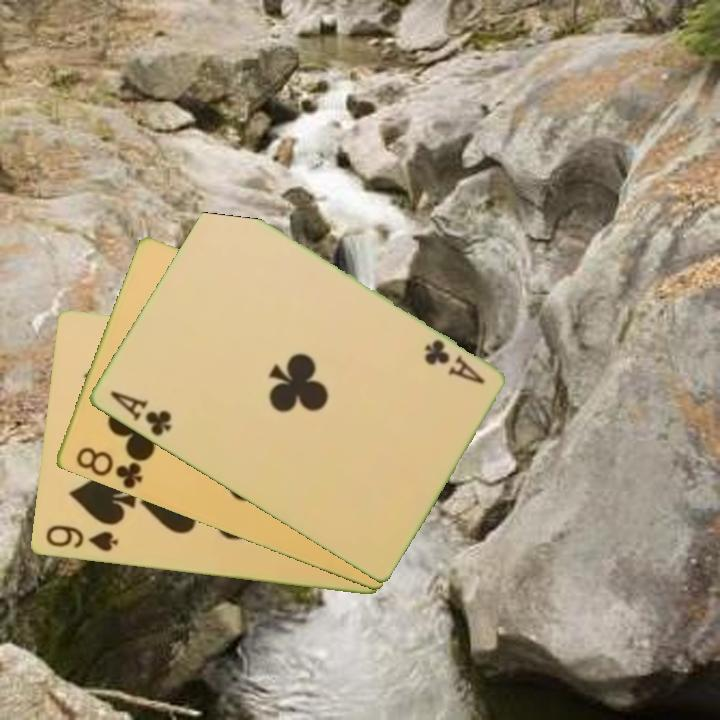8c: (71, 443, 145, 492)
9s: (41, 522, 121, 555)
Ac: (106, 387, 174, 440), (420, 336, 487, 388)
